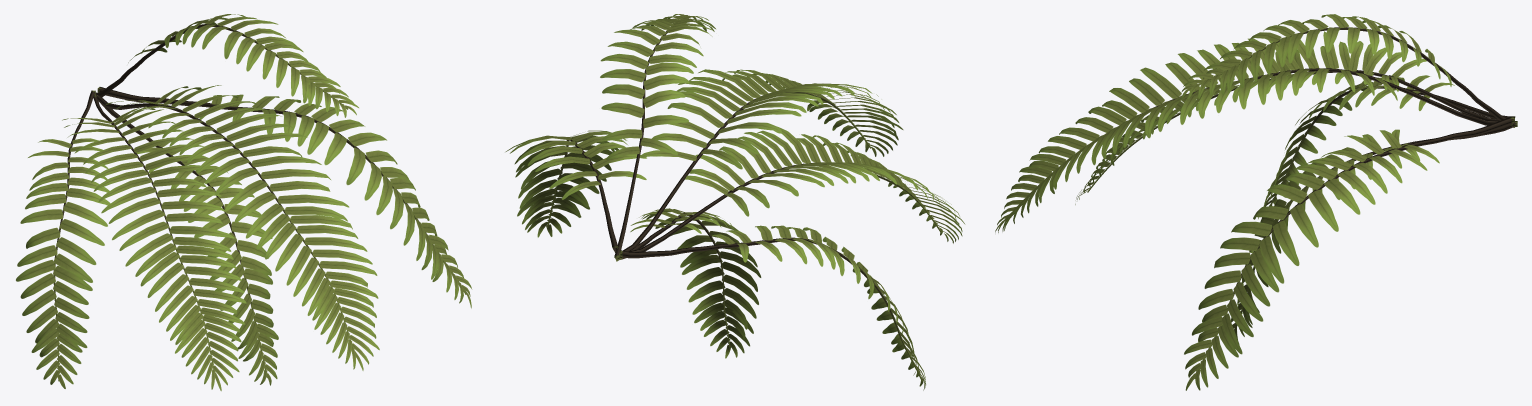
3 views of the same model, side by side, from view 1: azimuth 30°, elevation 25°; view 2: azimuth 150°, elevation 25°; view 3: azimuth 270°, elevation 25° (orthographic). The views are drawn at different scales.
Parts seen in each view (by area): view 1: MH_Fern01_06.Shape; view 2: MH_Fern01_06.Shape; view 3: MH_Fern01_06.Shape.
Boxes of the visible parts, bbox=[...] form: MH_Fern01_06.Shape: bbox=[16, 14, 472, 391]; MH_Fern01_06.Shape: bbox=[505, 14, 965, 390]; MH_Fern01_06.Shape: bbox=[995, 14, 1517, 390].
Size of the model in its own units: 0.4745 by 0.3664 by 0.5185.
2 materials, 2 textured.
